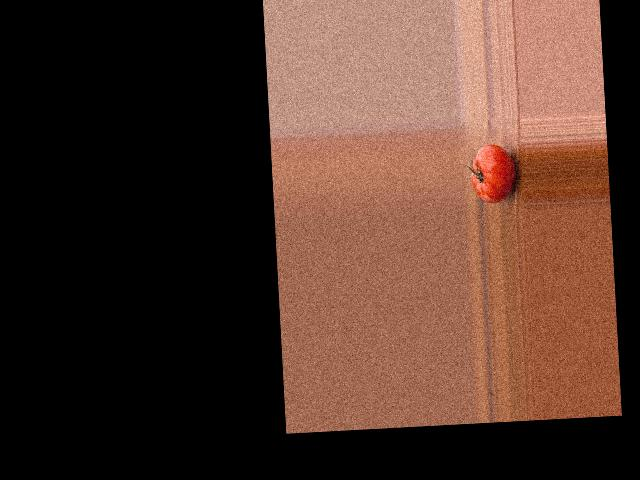tomato: (469, 142, 517, 203)
